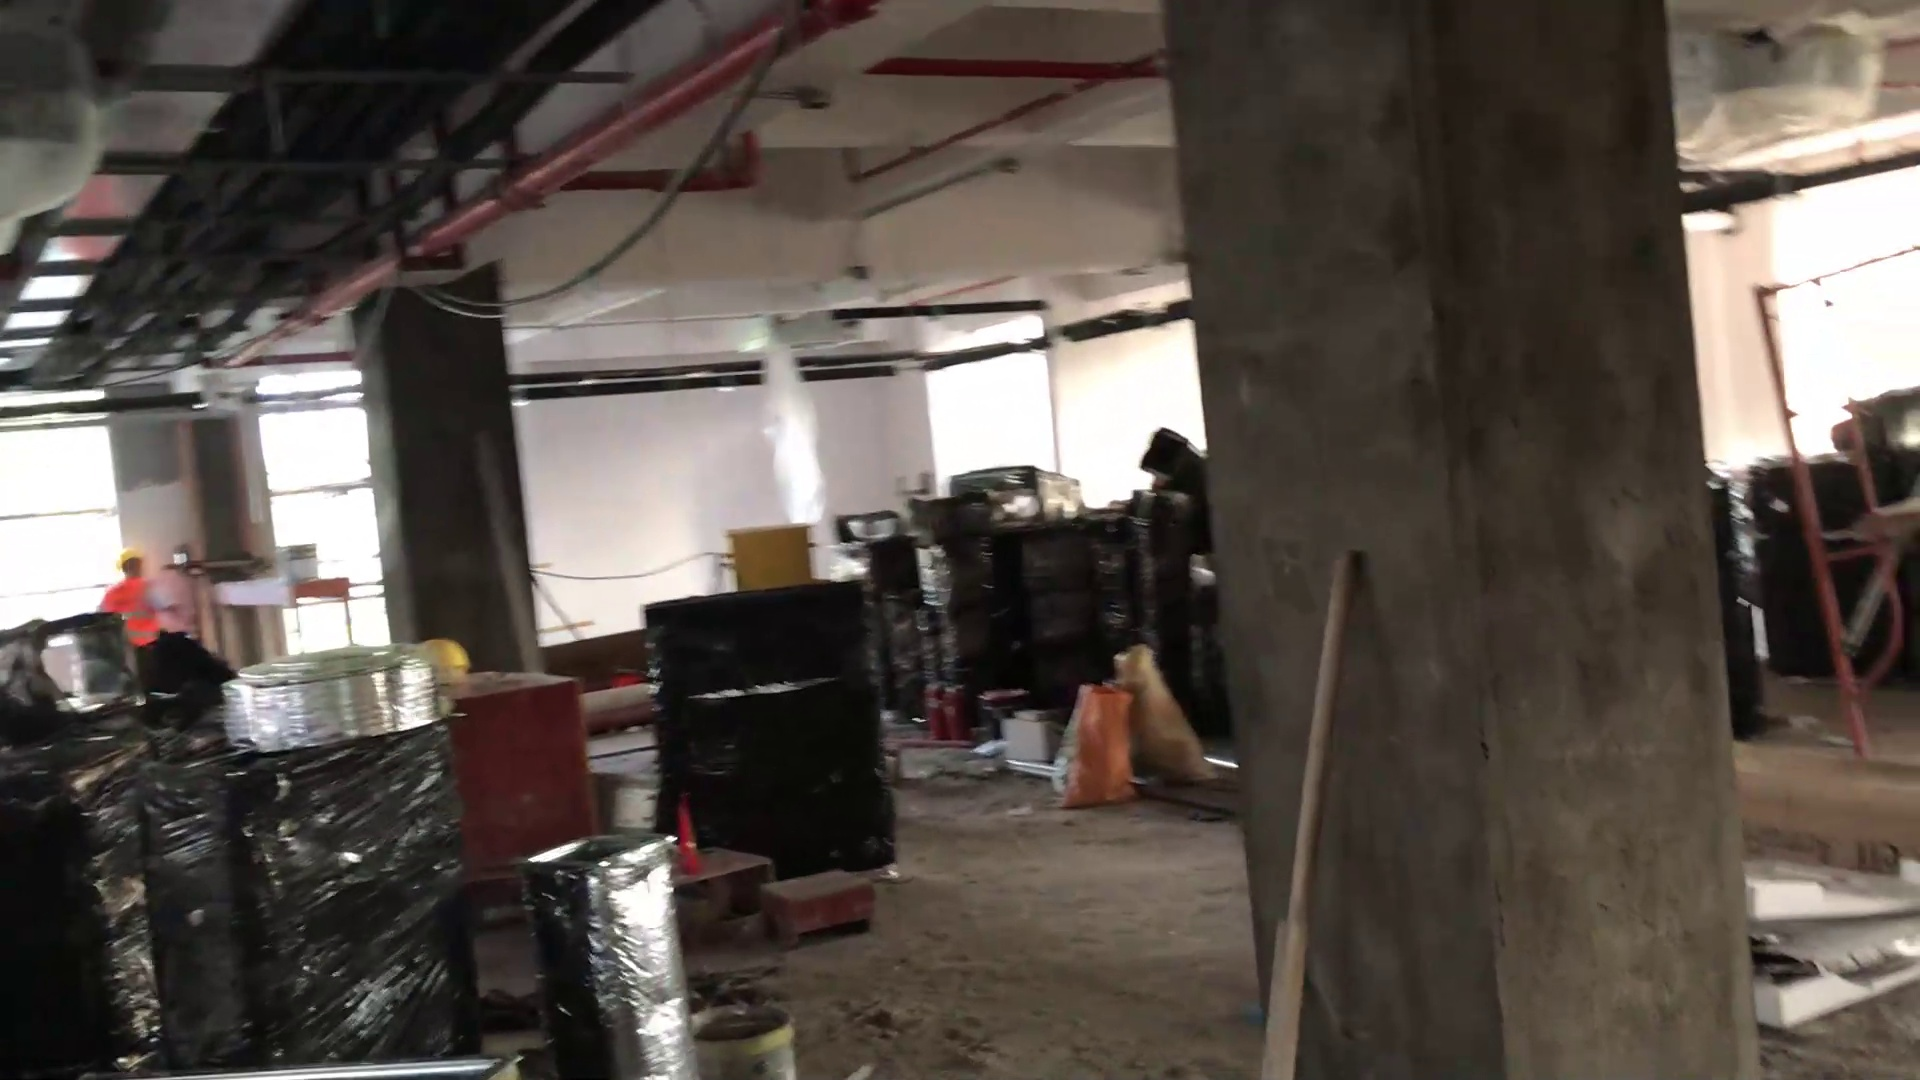ebox: (712, 518, 827, 580)
helmet: (408, 632, 476, 684), (118, 548, 155, 565)
person: (94, 531, 188, 669)
vest: (102, 582, 162, 641)
